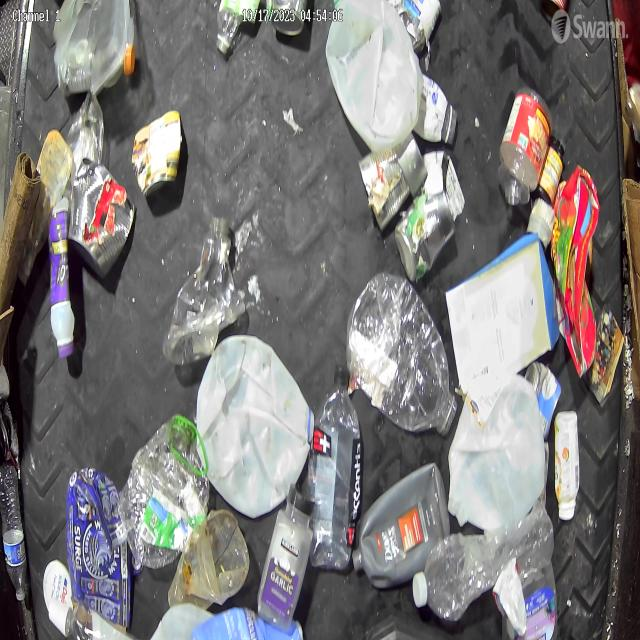can: (70, 161, 136, 277), (394, 191, 456, 284), (131, 112, 183, 200), (358, 147, 411, 232), (524, 362, 562, 438)
milk_jug: (197, 334, 312, 518), (450, 378, 549, 528), (325, 0, 421, 149)
non_white_jug: (352, 462, 452, 589)
plastic_bottle: (346, 270, 454, 432), (309, 365, 358, 569), (168, 219, 232, 365), (412, 530, 506, 623), (0, 465, 28, 601)
